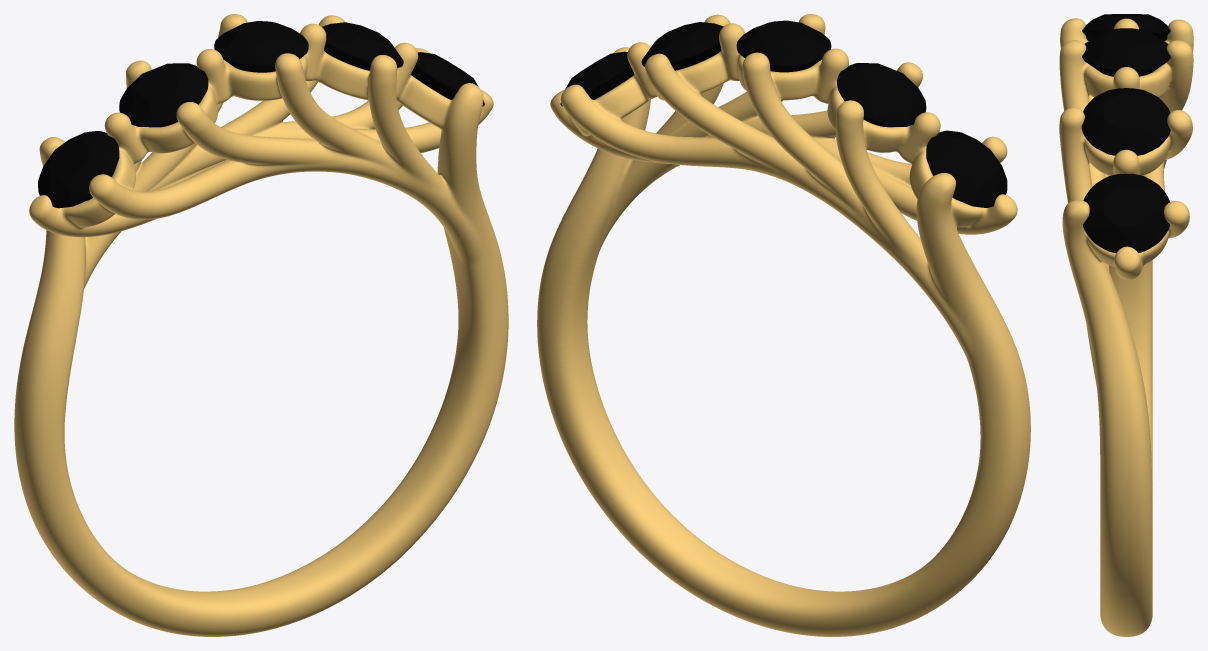
The picture shows the model from 3 angles, left to right: view 1: azimuth 30°, elevation 25°; view 2: azimuth 150°, elevation 25°; view 3: azimuth 270°, elevation 25°; orthographic projection. The views are drawn at different scales.
Parts seen in each view (by area): view 1: Ijewel-033-Render-Rev002.3dm, Diamond_Round (×5); view 2: Ijewel-033-Render-Rev002.3dm, Diamond_Round (×5); view 3: Ijewel-033-Render-Rev002.3dm, Diamond_Round (×4).
Part boxes in pixels (x1,y1,x2,y2): Ijewel-033-Render-Rev002.3dm: (14,14,508,636); Diamond_Round (×5): (38,21,484,208); Ijewel-033-Render-Rev002.3dm: (537,14,1030,636); Diamond_Round (×5): (560,20,1007,207); Ijewel-033-Render-Rev002.3dm: (1059,18,1193,636); Diamond_Round (×4): (1081,14,1170,253).
Size of the model in its own units: 2.56 by 3.01 by 0.6398.
